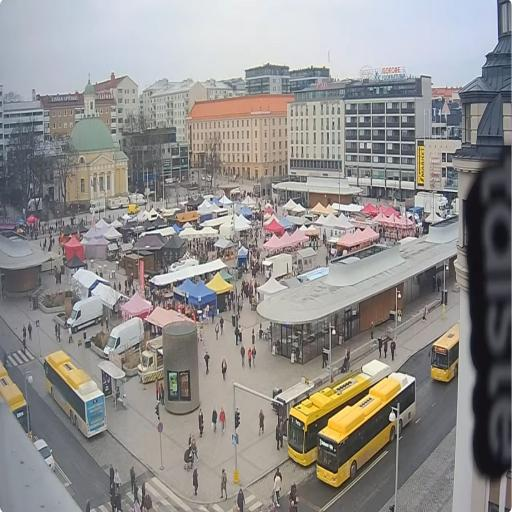Bus: (317, 373, 416, 487), (288, 360, 389, 466), (44, 351, 106, 437), (0, 363, 31, 439), (431, 323, 459, 382)
Car: (34, 439, 55, 471)
Delivery: (104, 318, 143, 358), (66, 297, 103, 332), (138, 337, 163, 383)
